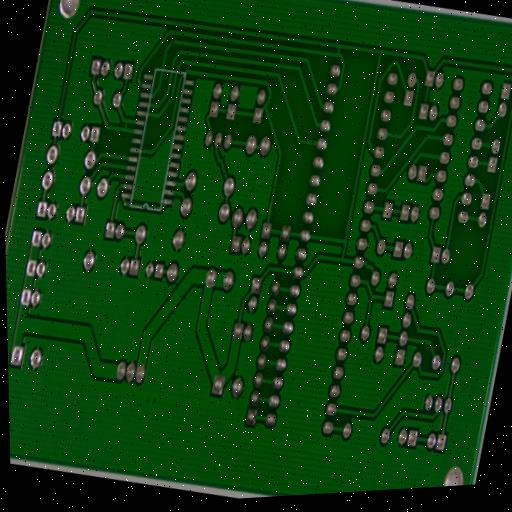short_circuit: (118, 114, 133, 136), (331, 41, 346, 62), (171, 180, 185, 198)
